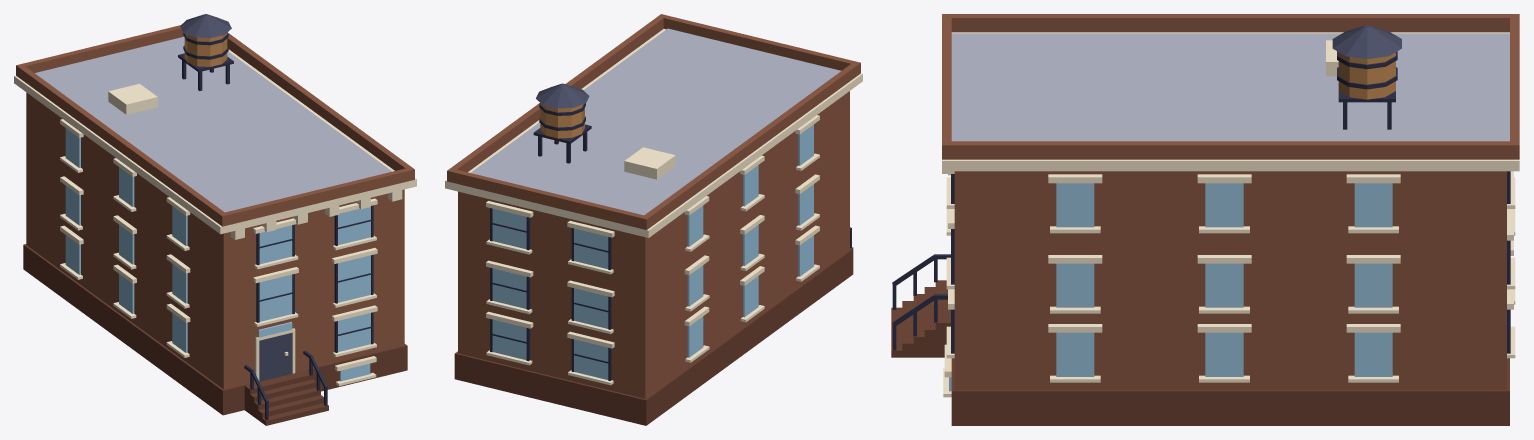
Rendered from house-1x2-3f-brownstone-a.glb.
The picture shows the model from 3 angles, left to right: view 1: azimuth 30°, elevation 25°; view 2: azimuth 150°, elevation 25°; view 3: azimuth 270°, elevation 25°; orthographic projection. The views are drawn at different scales.
Parts seen in each view (by area): view 1: house-1x2-3f-brownstone-a; view 2: house-1x2-3f-brownstone-a; view 3: house-1x2-3f-brownstone-a.
Boxes of the visible parts, x1,y1,x2,y2 form: house-1x2-3f-brownstone-a: (14,14,416,425); house-1x2-3f-brownstone-a: (445,14,862,425); house-1x2-3f-brownstone-a: (891,14,1519,425).
Bounding box in the file's own units: 1 × 1.26 × 1.98.
1 material, 1 textured.
